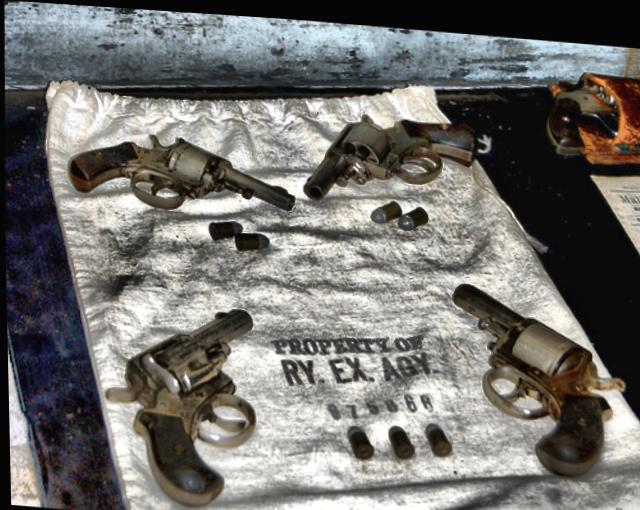pistol: (441, 273, 628, 475), (96, 291, 258, 510), (65, 127, 293, 212), (303, 98, 477, 206), (543, 55, 640, 156)
